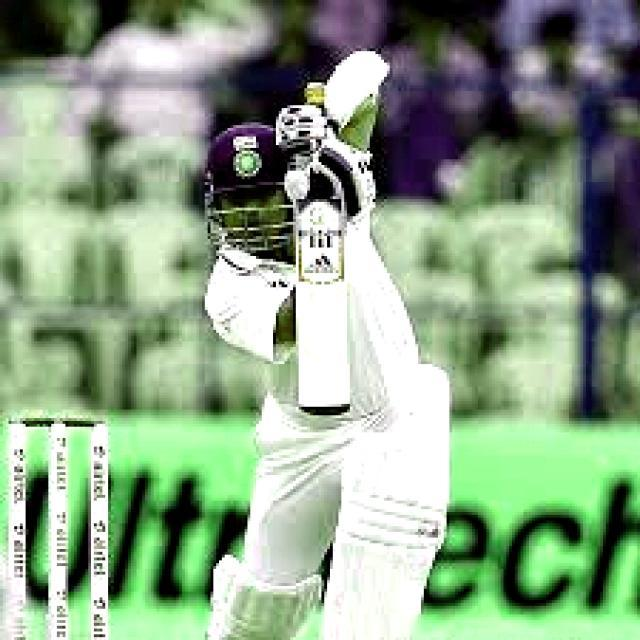bat: (288, 204, 364, 423)
toe: (295, 405, 354, 421)
